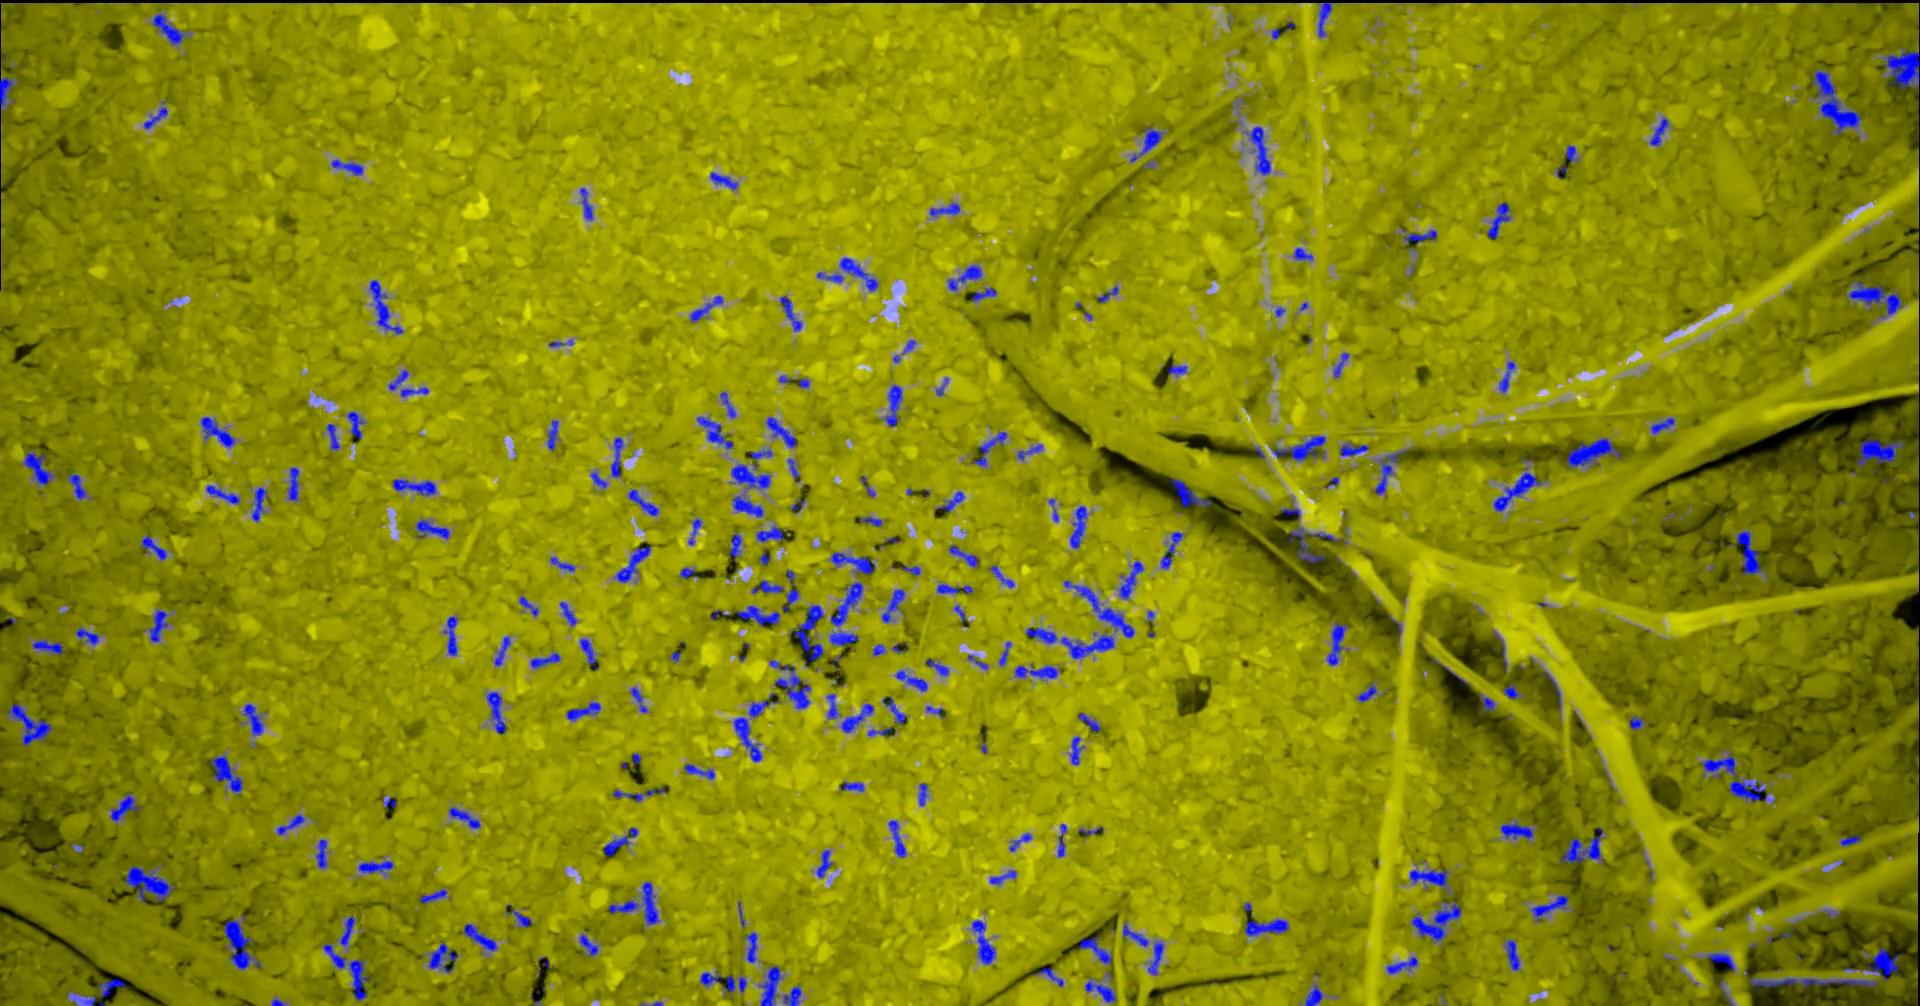ant: (1063, 580, 1134, 636), (1702, 753, 1768, 801), (1025, 627, 1114, 658), (323, 942, 370, 1000), (1492, 467, 1542, 511), (789, 605, 823, 666), (1410, 901, 1460, 941), (1749, 976, 1878, 991), (770, 659, 810, 708), (6, 702, 51, 746), (1848, 279, 1901, 315), (124, 865, 174, 903), (223, 920, 262, 969), (1288, 527, 1341, 561), (370, 279, 403, 334), (1883, 47, 1919, 94), (1566, 438, 1622, 467), (1559, 827, 1604, 862), (1374, 448, 1407, 494), (830, 580, 862, 626), (1736, 528, 1766, 575), (613, 545, 651, 582), (1272, 434, 1324, 461), (839, 257, 877, 291), (1855, 439, 1903, 466), (1862, 946, 1898, 981), (210, 754, 243, 793), (733, 716, 761, 761), (1170, 478, 1211, 507), (971, 431, 1007, 465), (152, 13, 190, 44), (1246, 126, 1270, 175), (696, 417, 733, 448), (1129, 126, 1161, 161), (971, 920, 996, 964), (1530, 894, 1568, 921), (698, 972, 745, 993), (201, 417, 234, 447), (23, 452, 53, 485), (603, 827, 637, 856), (730, 464, 770, 489), (830, 551, 874, 574), (1326, 622, 1349, 666), (764, 417, 796, 447), (1117, 560, 1143, 598), (1410, 869, 1449, 893), (758, 965, 782, 1005), (735, 605, 778, 626), (841, 702, 872, 732), (1078, 935, 1111, 963), (690, 295, 723, 321), (463, 923, 497, 950), (1244, 916, 1288, 936), (947, 264, 982, 290), (1161, 531, 1183, 569), (778, 296, 803, 332), (428, 942, 457, 972), (486, 691, 505, 734), (110, 793, 140, 821), (1487, 202, 1510, 238), (731, 492, 763, 517), (627, 489, 658, 514), (881, 589, 904, 622), (884, 384, 902, 426), (1069, 506, 1087, 547), (612, 788, 665, 801), (748, 692, 778, 716), (1084, 978, 1115, 1002), (392, 479, 436, 495), (894, 669, 927, 691), (641, 882, 658, 923), (448, 807, 480, 828), (140, 533, 166, 559), (243, 702, 263, 735), (782, 569, 797, 612), (888, 821, 905, 857), (204, 484, 239, 503), (415, 520, 450, 539), (1543, 671, 1559, 710), (1500, 819, 1531, 840), (949, 544, 977, 567), (149, 608, 168, 641), (566, 701, 599, 720), (883, 696, 905, 723), (1909, 511, 1919, 570), (579, 638, 598, 669), (935, 492, 964, 512), (610, 436, 623, 478), (505, 904, 531, 927), (1123, 923, 1148, 946), (276, 814, 303, 835), (1147, 941, 1163, 976), (1705, 951, 1735, 970), (443, 616, 457, 655), (1403, 229, 1436, 245), (1650, 117, 1669, 145), (345, 412, 364, 439), (1015, 666, 1057, 678), (1035, 967, 1063, 986), (1498, 361, 1515, 392), (1385, 956, 1417, 973), (251, 486, 267, 521), (143, 107, 168, 128), (1317, 0, 1331, 37), (67, 473, 86, 499), (98, 978, 124, 997), (0, 77, 15, 111), (331, 159, 362, 175), (494, 635, 510, 666), (30, 639, 63, 654), (530, 652, 560, 668), (339, 915, 356, 945), (709, 171, 737, 189), (990, 565, 1013, 587), (756, 525, 785, 541), (749, 448, 772, 469), (683, 763, 714, 779), (815, 848, 832, 876), (630, 687, 648, 713), (829, 630, 858, 645), (1069, 735, 1084, 765), (1505, 939, 1519, 970), (578, 934, 598, 955), (358, 860, 392, 873), (559, 601, 577, 625), (924, 657, 949, 674), (579, 187, 592, 220), (719, 391, 735, 417), (750, 580, 783, 593), (74, 627, 99, 644), (387, 370, 408, 390), (1355, 683, 1377, 702), (1078, 713, 1100, 732), (1010, 832, 1031, 851), (930, 202, 959, 216), (418, 889, 447, 903), (608, 899, 637, 913), (743, 932, 757, 962), (549, 556, 575, 572), (1650, 417, 1674, 433), (1333, 352, 1349, 377), (1017, 445, 1043, 460), (519, 596, 538, 616), (287, 467, 298, 500), (1338, 443, 1368, 456), (825, 694, 841, 718), (1097, 285, 1117, 302), (1304, 984, 1322, 1005), (783, 984, 801, 1005), (687, 518, 701, 544), (729, 533, 742, 561), (315, 840, 328, 868), (989, 870, 1015, 884), (971, 287, 996, 301), (546, 420, 557, 450), (326, 423, 339, 448), (400, 386, 428, 398), (936, 584, 971, 593), (858, 475, 874, 495), (817, 271, 843, 282), (1057, 823, 1065, 857), (968, 654, 987, 669), (72, 992, 95, 1005), (1291, 246, 1312, 260), (1280, 506, 1300, 520), (998, 641, 1010, 666), (1479, 694, 1495, 711), (787, 459, 799, 481), (857, 516, 883, 526), (590, 471, 606, 488), (1564, 145, 1578, 163), (867, 727, 895, 735), (839, 781, 863, 791), (1167, 365, 1187, 376), (790, 497, 805, 512), (1503, 683, 1519, 699), (1839, 835, 1860, 845), (1628, 715, 1643, 729), (918, 782, 927, 805), (902, 565, 919, 575), (679, 567, 695, 578), (872, 643, 885, 655), (382, 796, 396, 807)
